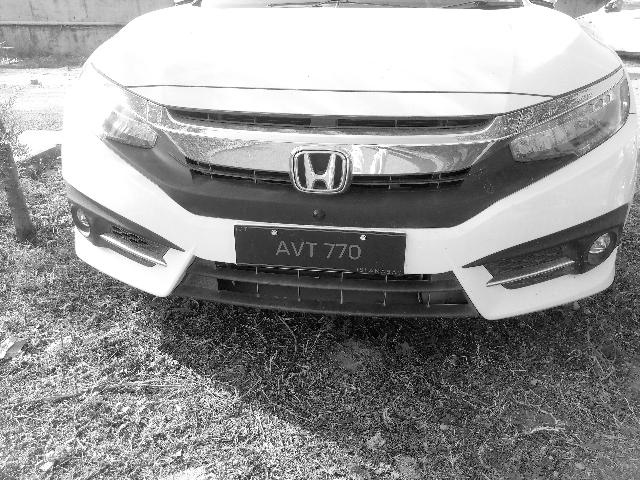Number: (271, 241, 366, 262)
